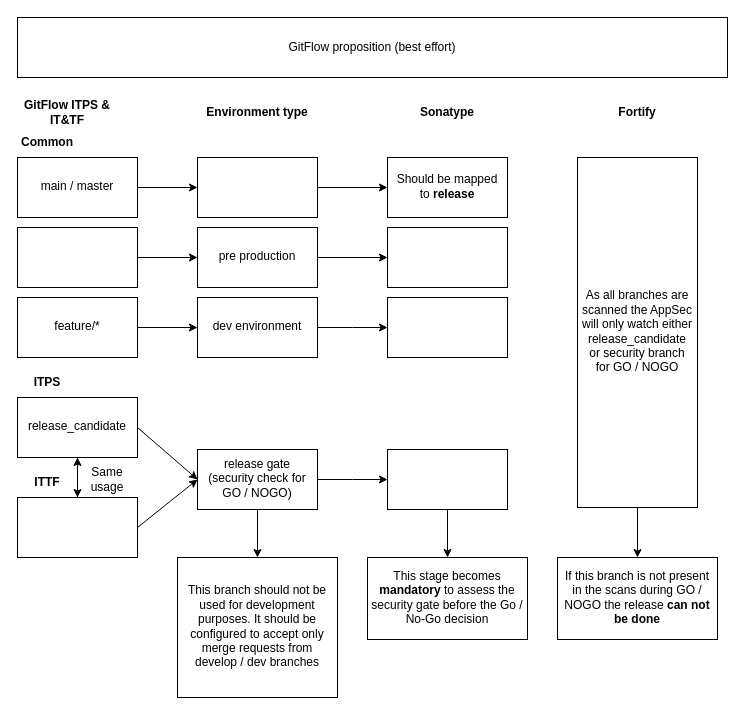
The diagram is 745 pixels wide and 715 high, and some of its shapes have lost their labels. The box of each missing label's shape, as (x1, y1, x2, y2) in pixels:
develop / dev: (16, 226, 138, 288)
Must be mapped to stage release: (386, 448, 508, 510)
production: (196, 156, 318, 218)
security: (16, 496, 138, 558)
Should be mapped to build: (386, 226, 508, 288)
Should be mapped to source: (386, 296, 508, 358)
